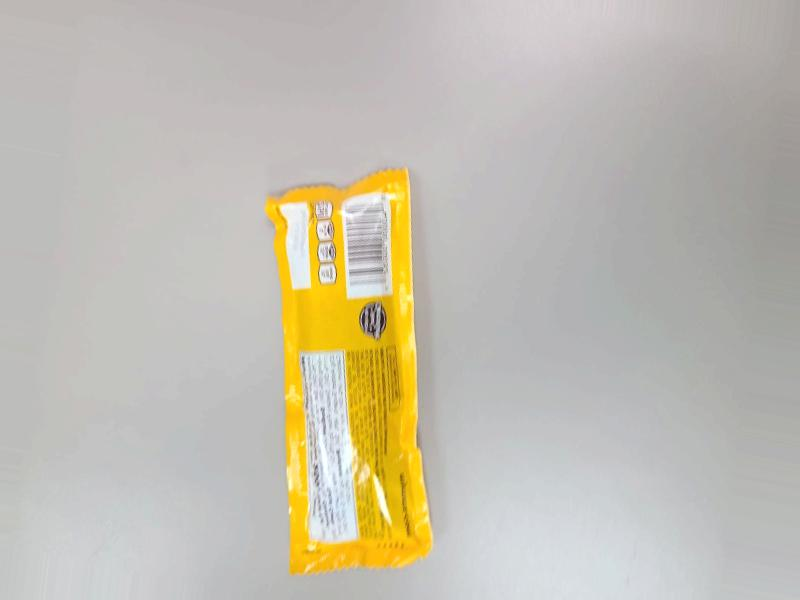m&m: (274, 136, 441, 560)
